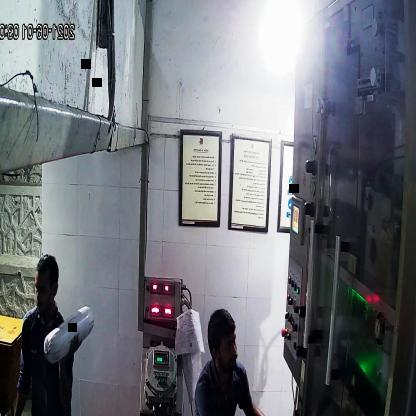no_goggles: (207, 334, 240, 359)
